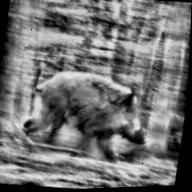boar: (16, 49, 174, 181)
